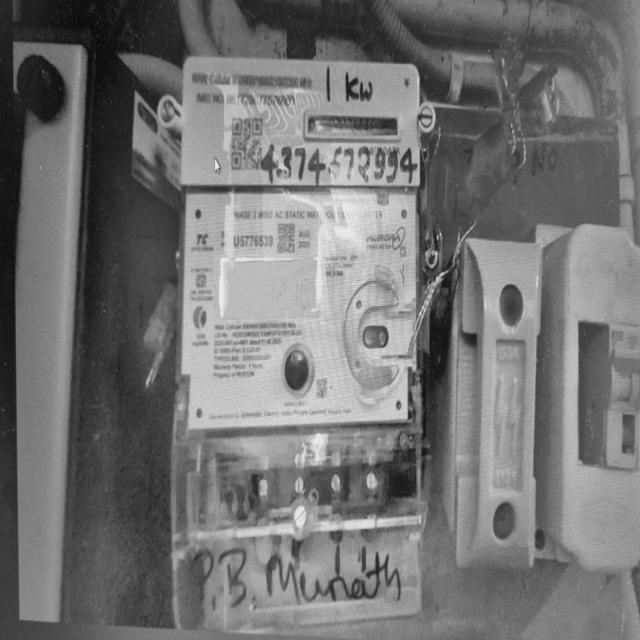meter: (182, 61, 419, 428)
